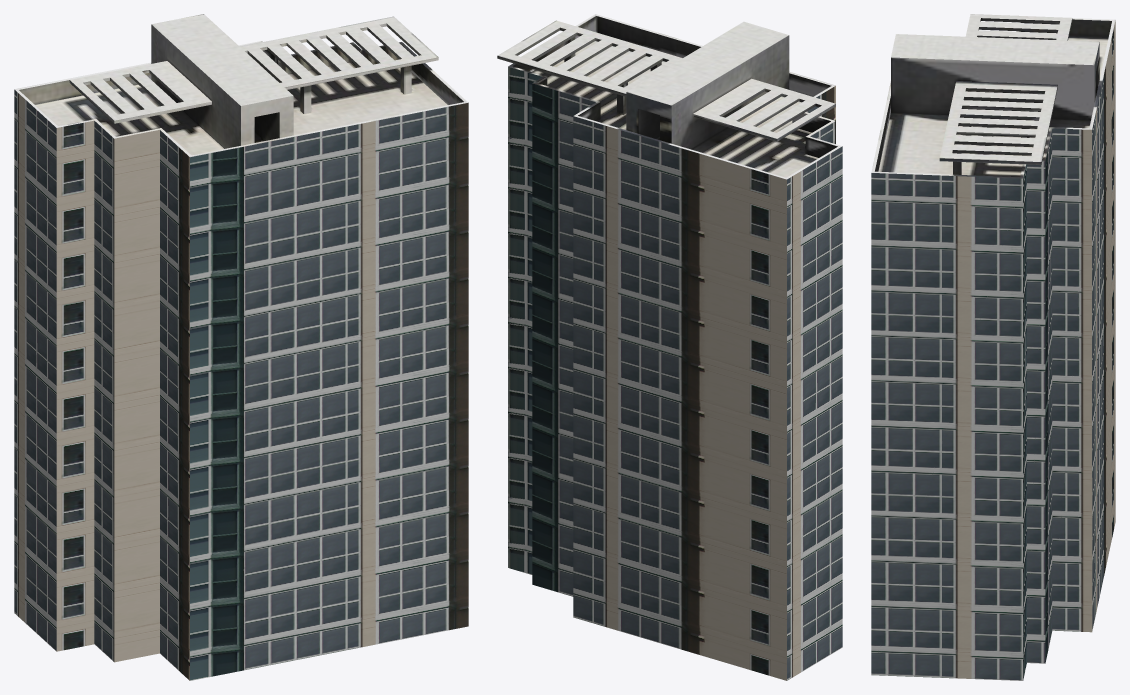
3 renders of one model, left to right at view 1: azimuth 30°, elevation 25°; view 2: azimuth 150°, elevation 25°; view 3: azimuth 270°, elevation 25°, orthographic. The views are drawn at different scales.
Visible parts, largest first — view 1: JZ_JX_16; view 2: JZ_JX_16; view 3: JZ_JX_16.
Part boxes in pixels (<box>): JZ_JX_16: <box>14,14,468,680</box>; JZ_JX_16: <box>497,14,842,680</box>; JZ_JX_16: <box>871,14,1115,680</box>.
Size of the model in its own units: 2430 by 3750 by 1536.
Materials: 2 (2 with a texture image).
